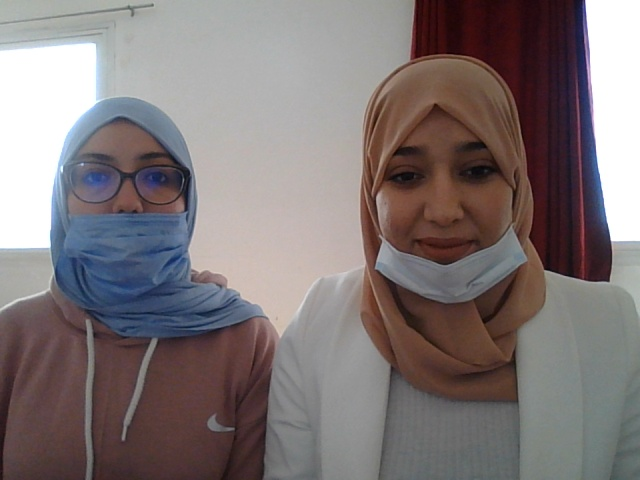mask_weared_incorrect: (358, 92, 546, 307), (60, 128, 200, 303)
